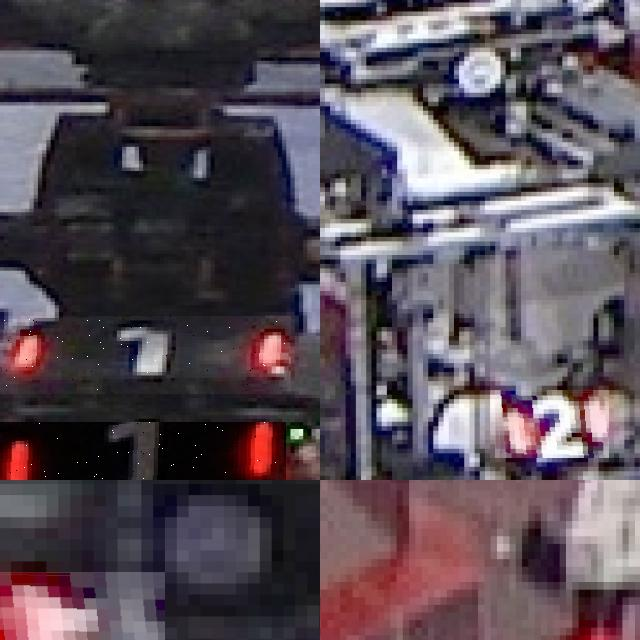R1: (0, 316, 291, 394), (0, 422, 286, 480)
R2: (495, 390, 609, 458)
R5: (0, 572, 165, 640)
